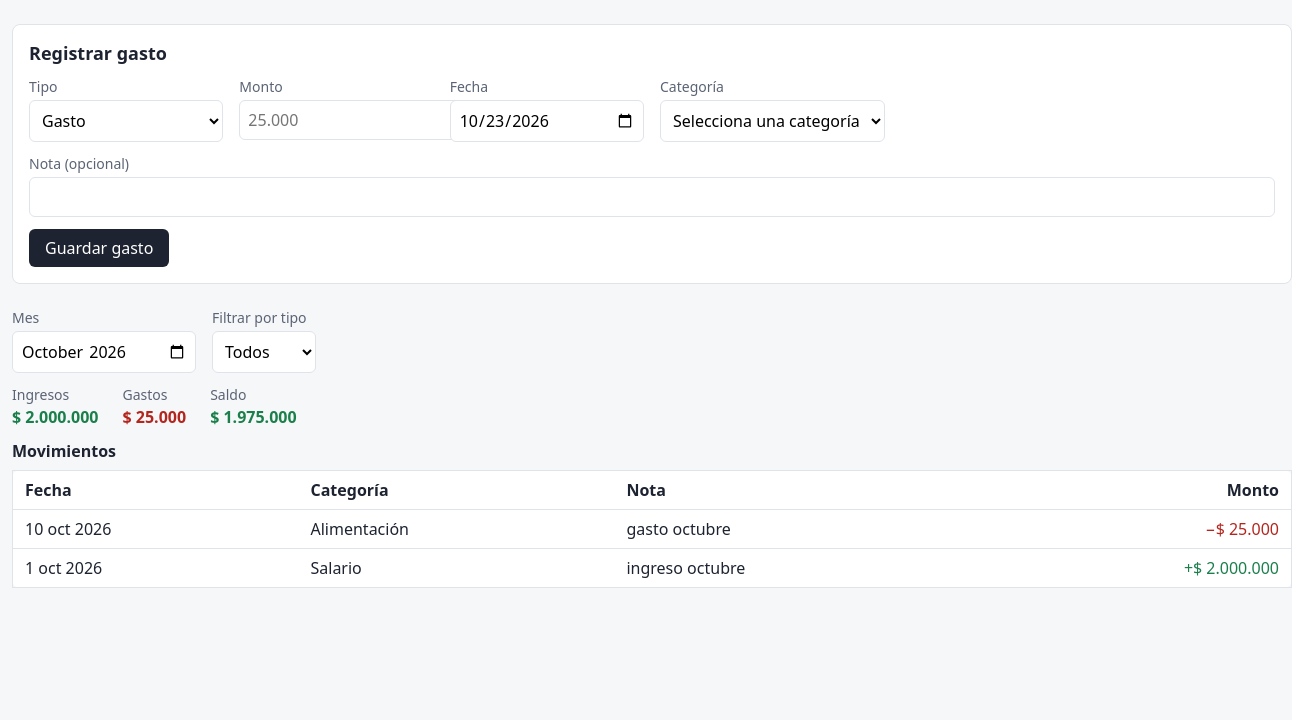
it: TransactionsPage · period filter (RDF-9) › says so when the selected month has no movements
Expected: the text "gasto octubre" is shown, [614, 510, 983, 548]
Replace the text in the field labelled "Mes" with "2026-08" at (104, 352), box [12, 331, 196, 373]
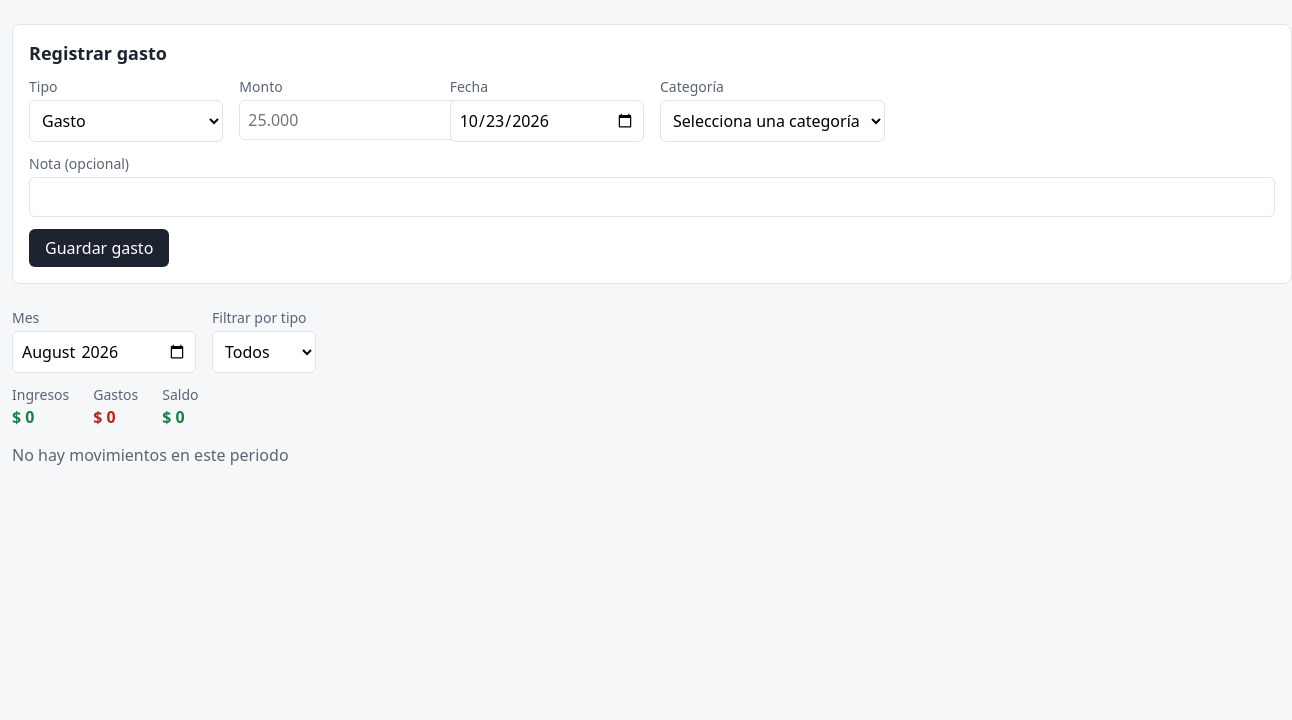
Now the text "No hay movimientos en este periodo" is shown, box [12, 444, 289, 466]
